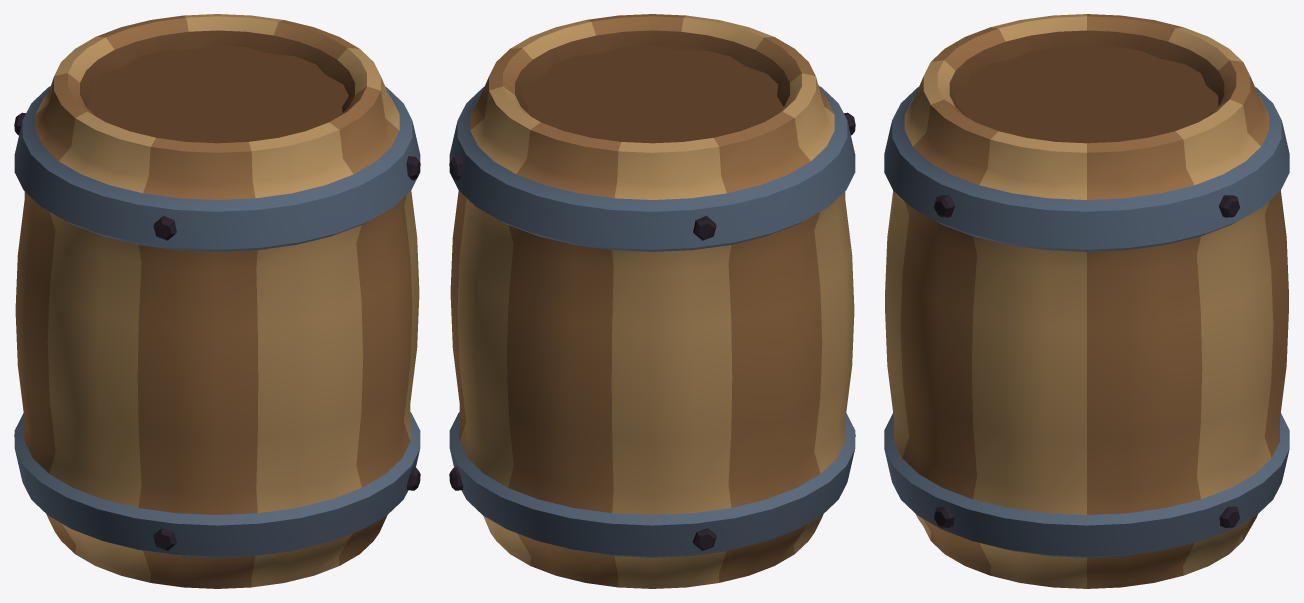
File: Barrel_18.glb
3 views of the same model, side by side, from view 1: azimuth 30°, elevation 25°; view 2: azimuth 150°, elevation 25°; view 3: azimuth 270°, elevation 25° (orthographic).
Visible parts, largest first — view 1: Barrel_18; view 2: Barrel_18; view 3: Barrel_18.
Boxes of the visible parts, x1=… form: Barrel_18: x1=14, y1=14, x2=420, y2=588; Barrel_18: x1=449, y1=14, x2=855, y2=588; Barrel_18: x1=884, y1=14, x2=1289, y2=588.
Size of the model in its own units: 2.03 by 2.44 by 2.02.
